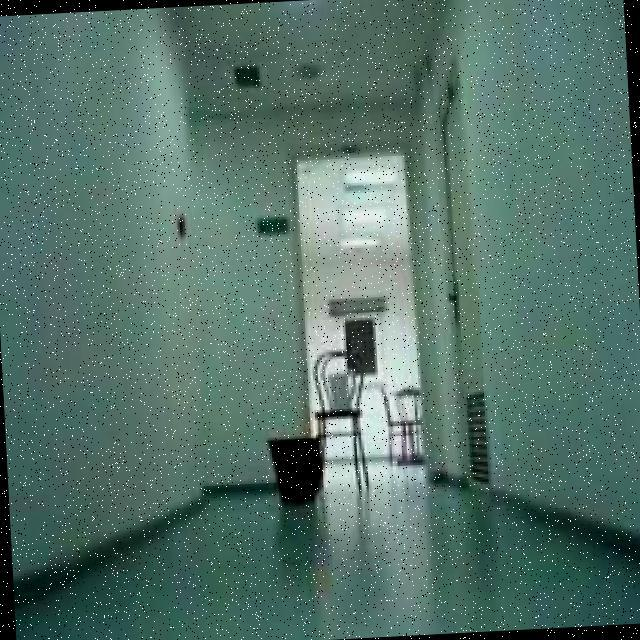Fire: (312, 428, 314, 436)
